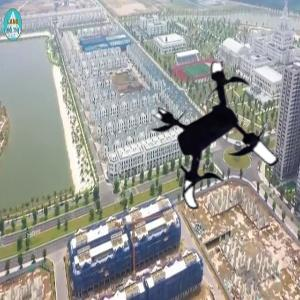drone: (143, 65, 296, 218)
